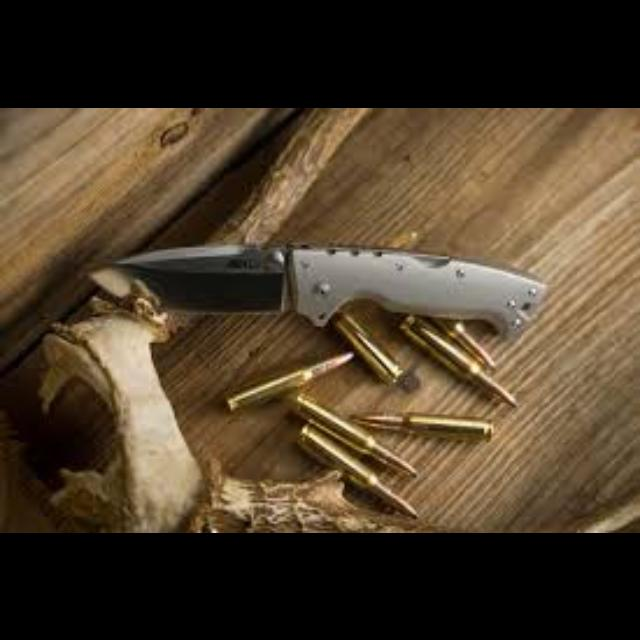knife: (109, 240, 546, 338)
